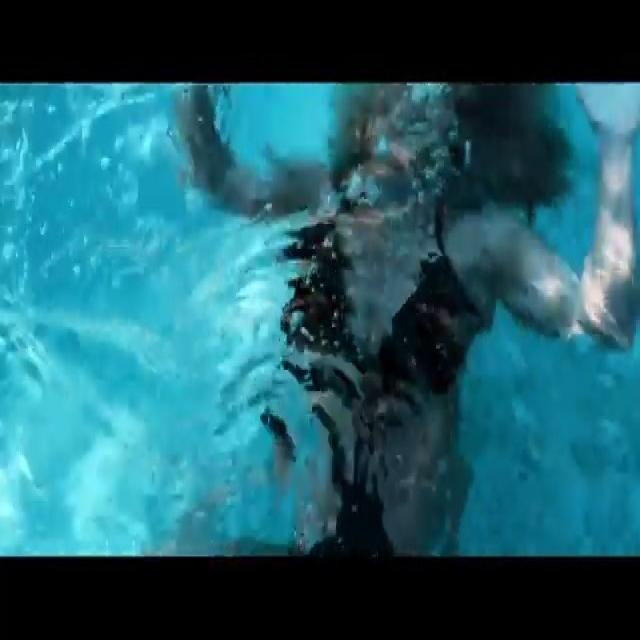Drowning: (163, 86, 638, 554)
